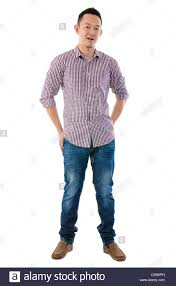standing: (40, 5, 147, 265)
